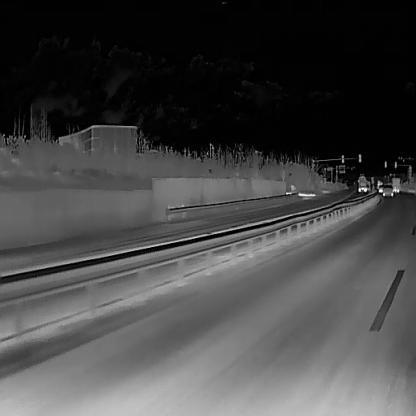car: (357, 173, 367, 192), (390, 177, 400, 193), (381, 184, 393, 196), (376, 179, 383, 189), (377, 185, 384, 193)
